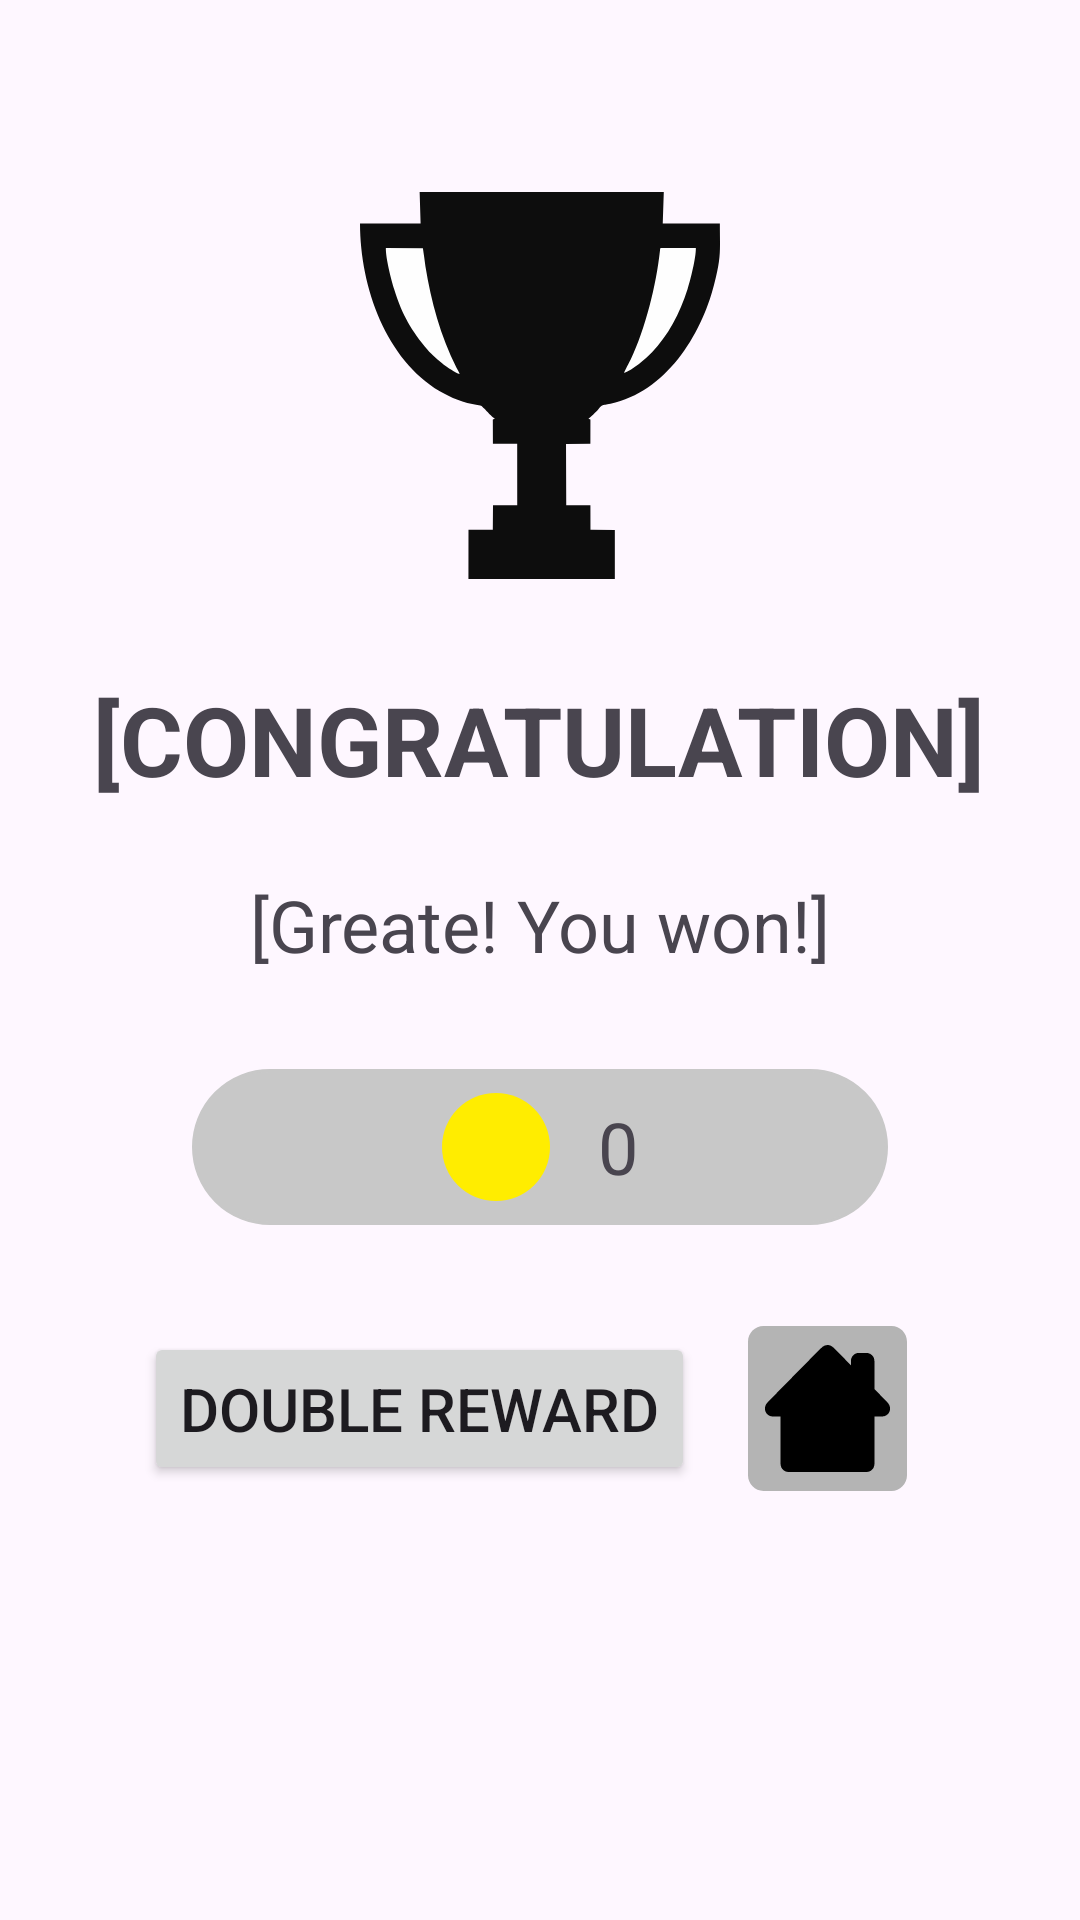

Where icons sit on this 1080w x 1920h app screen, as box(x1, y1, x2, y2):
home: box(748, 1326, 907, 1491)
